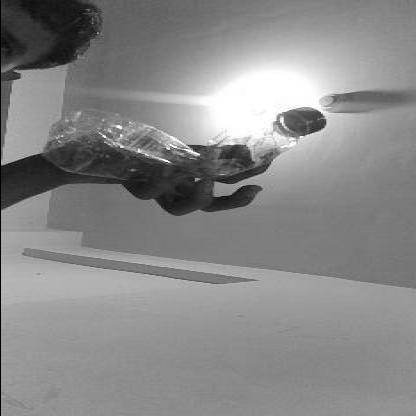plastic_bottles: (43, 102, 330, 177)
